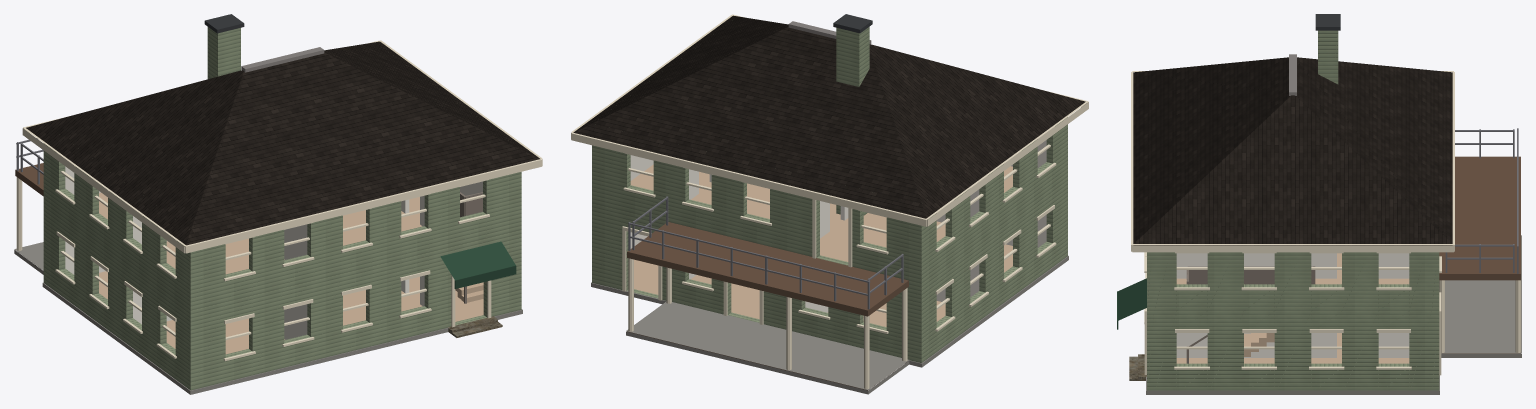
Rendered from ns-fourplex.towns-v2.lod0.glb.
3 renders of one model, left to right at view 1: azimuth 30°, elevation 25°; view 2: azimuth 150°, elevation 25°; view 3: azimuth 270°, elevation 25°, orthographic.
Parts seen in each view (by area): view 1: ns-fourplex; view 2: ns-fourplex; view 3: ns-fourplex.
Part boxes in pixels (x1=…): ns-fourplex: x1=14, y1=14, x2=542, y2=394; ns-fourplex: x1=571, y1=14, x2=1088, y2=394; ns-fourplex: x1=1117, y1=14, x2=1521, y2=394.
Bounding box in the file's own units: 14.08 × 10.37 × 13.85.
6 materials, 3 textured.
